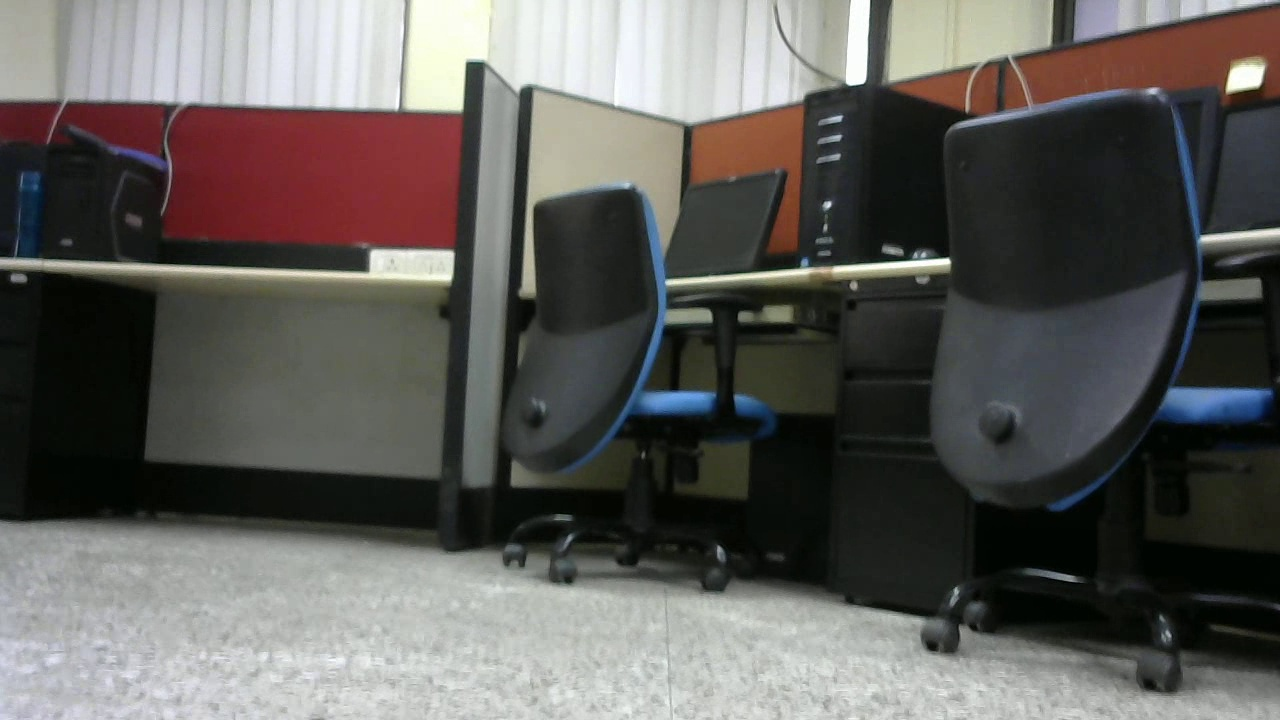chair: (921, 71, 1280, 692), (500, 180, 791, 588)
